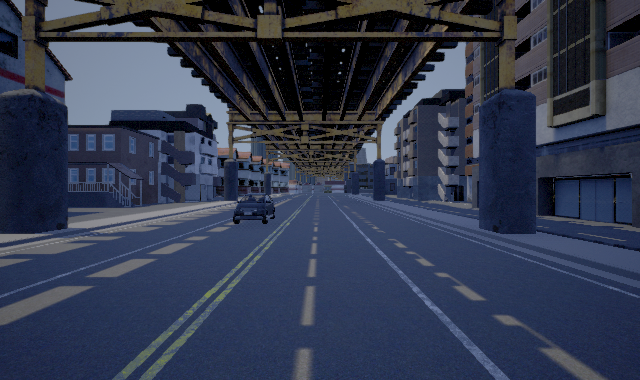vehicle: (233, 193, 275, 224)
